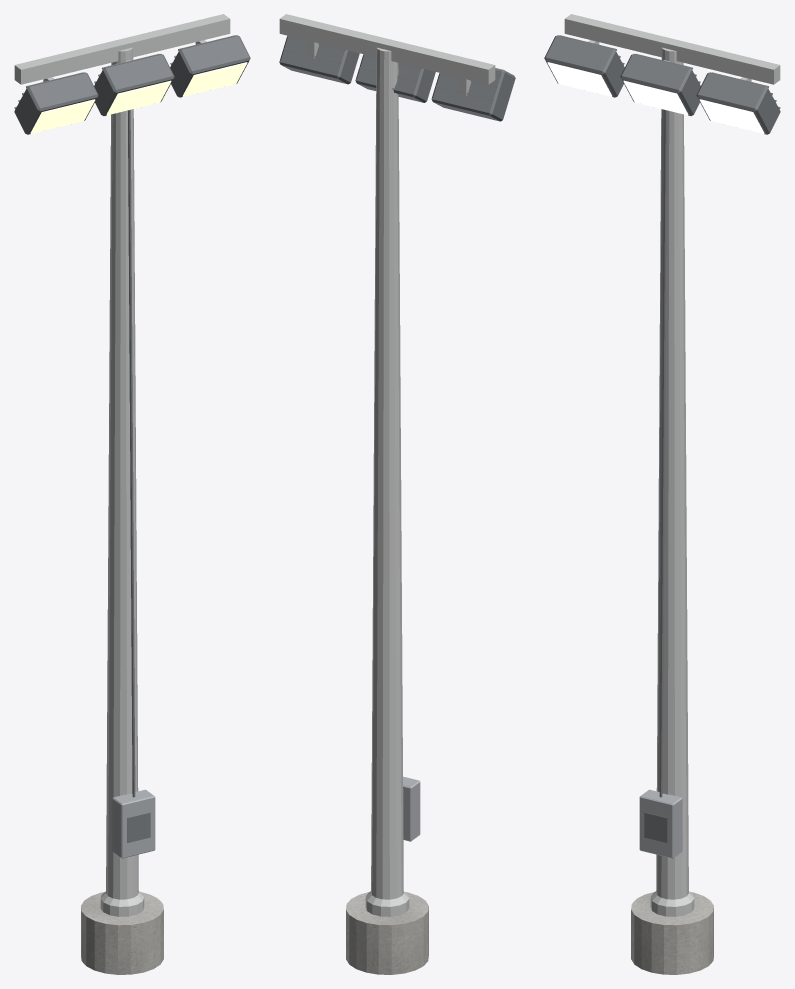
File: floodlight.glb
The picture shows the model from 3 angles, left to right: view 1: azimuth 30°, elevation 25°; view 2: azimuth 150°, elevation 25°; view 3: azimuth 330°, elevation 25°; orthographic projection.
Visible parts, largest first — view 1: floodlight_galv, floodlight_steel_d, floodlight_concrete, floodlight_lamp_glass, floodlight_steel; view 2: floodlight_galv, floodlight_steel_d, floodlight_concrete, floodlight_steel; view 3: floodlight_galv, floodlight_steel_d, floodlight_concrete, floodlight_lamp_glass, floodlight_steel.
Boxes of the visible parts, x1,y1,x2,y2 form: floodlight_galv: (14,14,230,916); floodlight_steel_d: (14,35,250,842); floodlight_concrete: (81,892,163,974); floodlight_lamp_glass: (30,62,247,133); floodlight_steel: (112,789,155,858); floodlight_galv: (279,14,495,916); floodlight_steel_d: (279,35,515,121); floodlight_concrete: (346,892,428,974); floodlight_steel: (403,776,420,841); floodlight_galv: (564,14,780,916); floodlight_steel_d: (544,35,780,842); floodlight_concrete: (631,892,713,974); floodlight_lamp_glass: (547,62,764,133); floodlight_steel: (639,789,682,858).
Size of the model in its own units: 2.24 by 9.2 by 0.793.
Materials: 5 (1 with a texture image).
